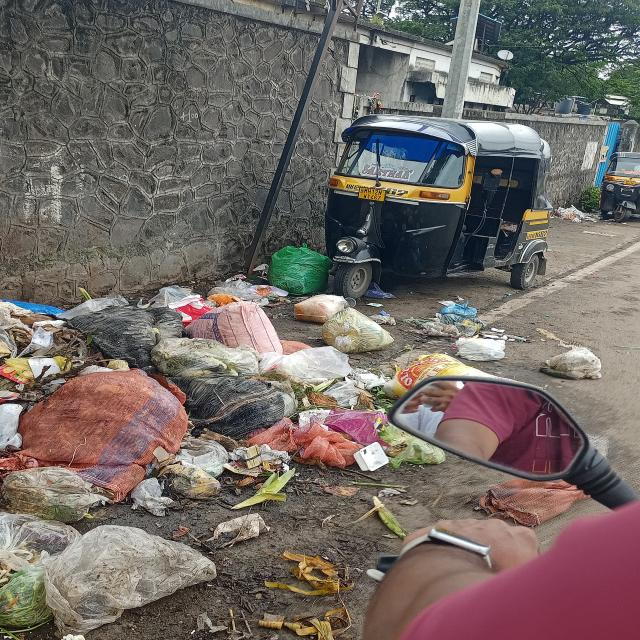garbage: (4, 260, 397, 620)
